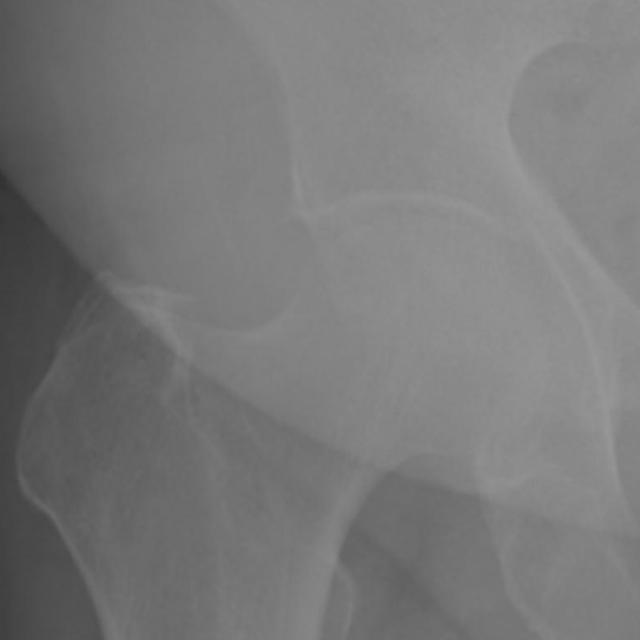Fitted_femural_head: (235, 218, 432, 235)
